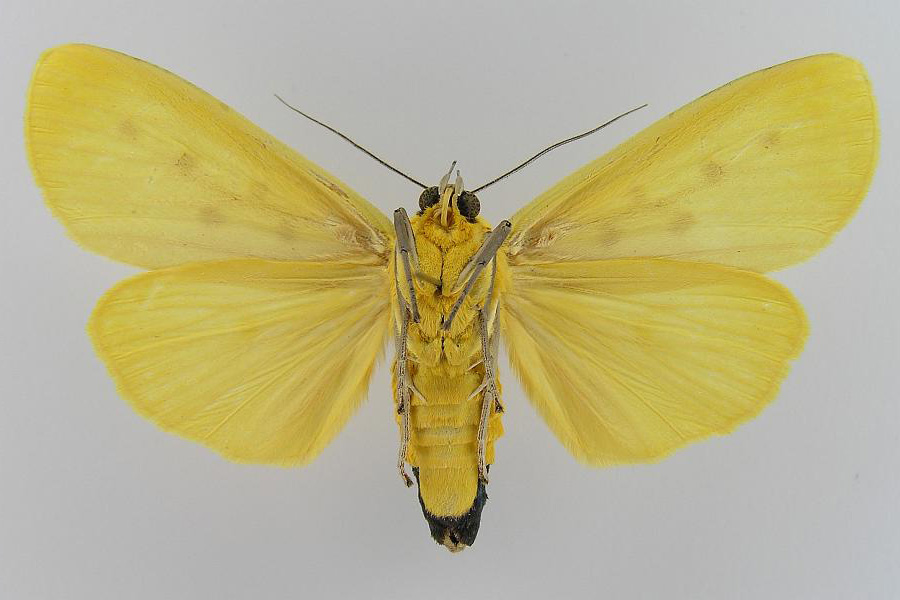Agape chloropyga: (27, 36, 885, 551)
moth: (25, 34, 883, 549)
